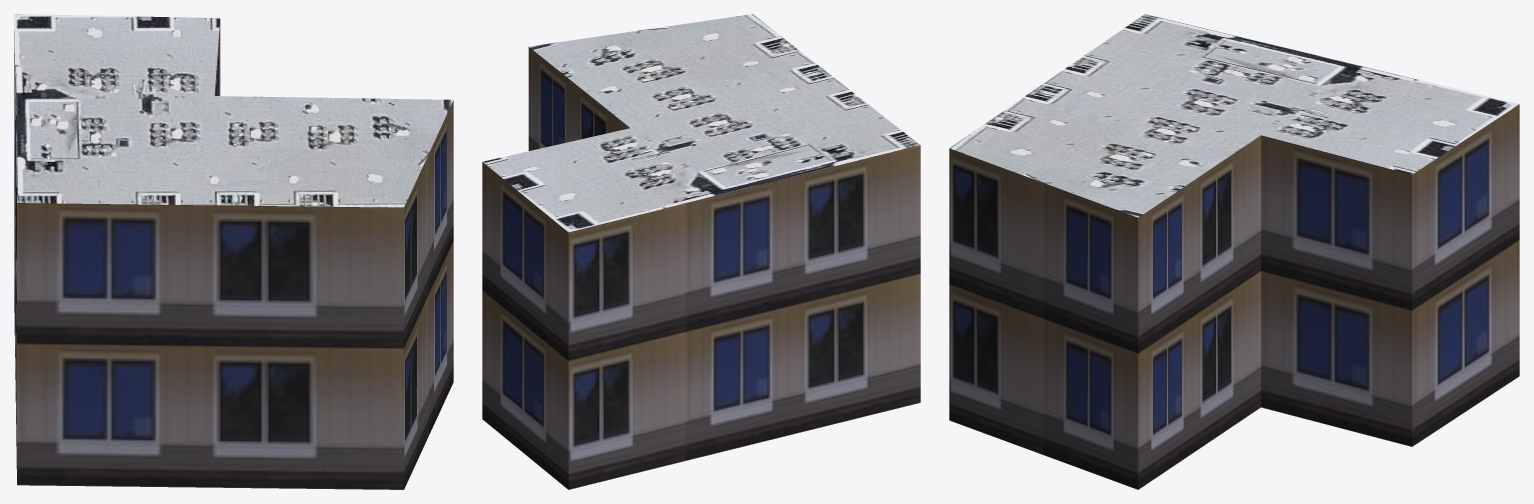
File: ResTex__3650.fbx
The picture shows the model from 3 angles, left to right: view 1: azimuth 30°, elevation 25°; view 2: azimuth 150°, elevation 25°; view 3: azimuth 270°, elevation 25°; orthographic projection. The views are drawn at different scales.
Visible parts, largest first — view 1: CityEngineMaterial_5_m, CityEngineMaterial_4_m; view 2: CityEngineMaterial_5_m, CityEngineMaterial_4_m; view 3: CityEngineMaterial_5_m, CityEngineMaterial_4_m.
Part boxes in pixels (<box>): CityEngineMaterial_5_m: <box>14,20,453,489</box>; CityEngineMaterial_4_m: <box>14,14,453,207</box>; CityEngineMaterial_5_m: <box>482,47,920,489</box>; CityEngineMaterial_4_m: <box>482,14,919,232</box>; CityEngineMaterial_5_m: <box>949,104,1519,489</box>; CityEngineMaterial_4_m: <box>949,14,1519,217</box>.
Size of the model in its own units: 9.64 by 6 by 11.4.
2 materials, 2 textured.
